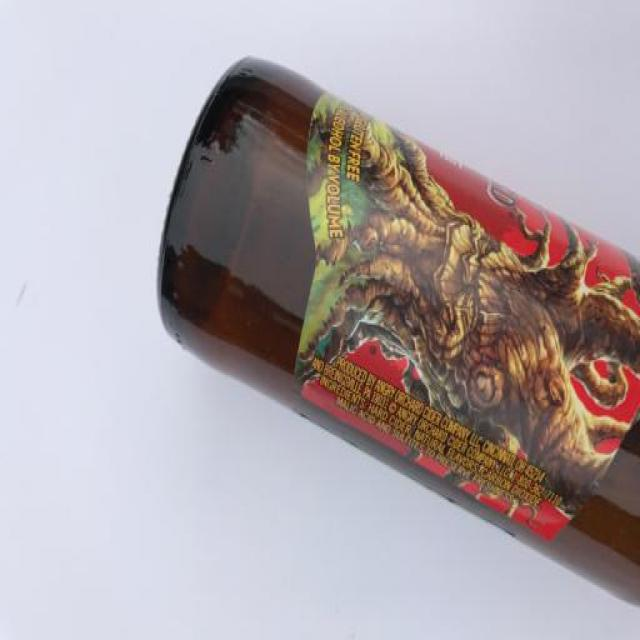glass: (107, 13, 640, 630)
